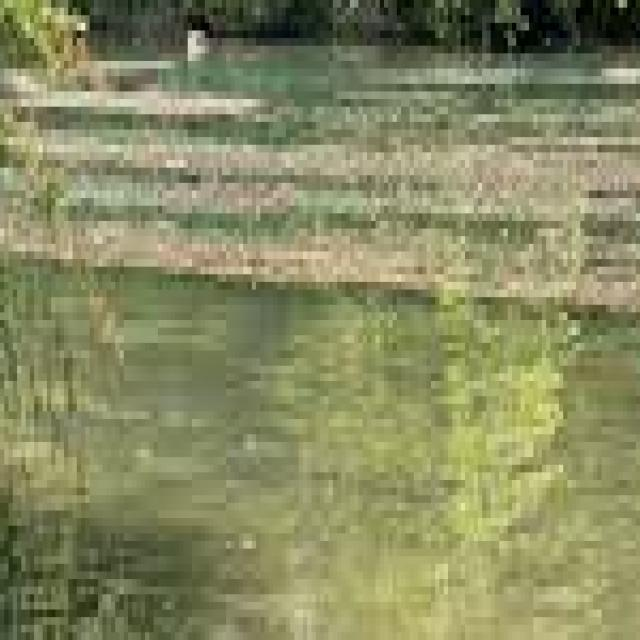-: (98, 236, 640, 640)
